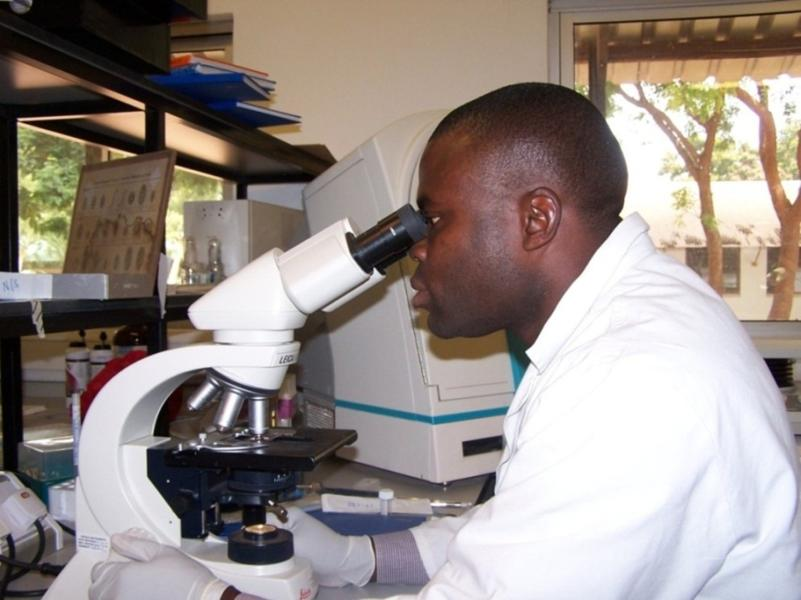person: (88, 80, 801, 600)
